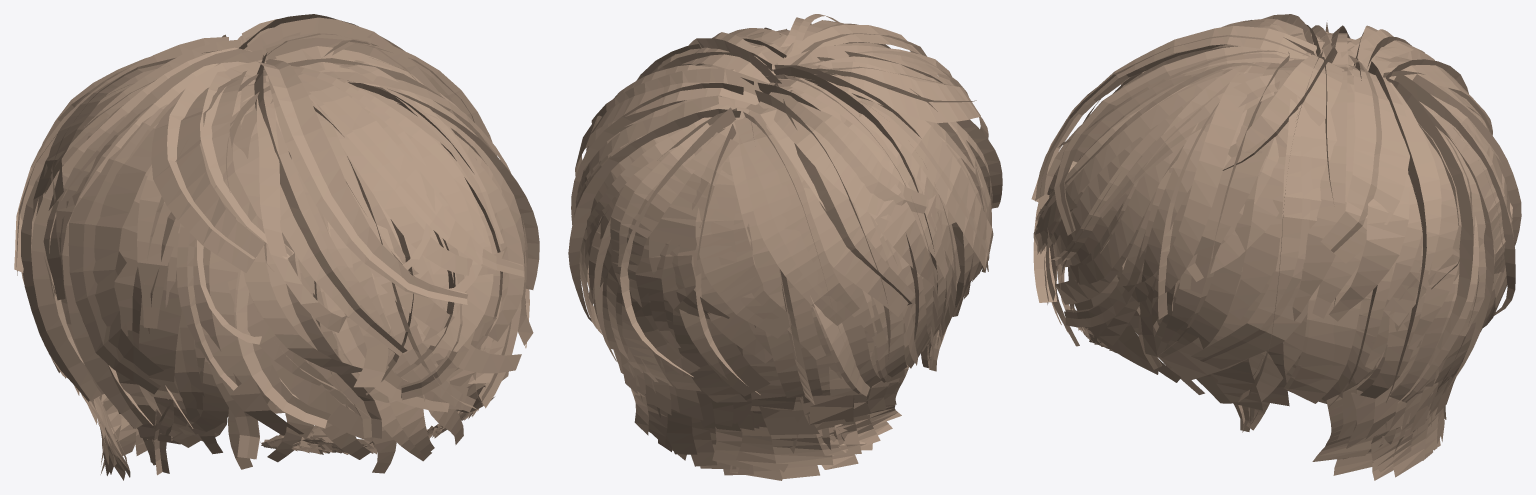
Rendered from male_hair_13_lod0.glb.
The picture shows the model from 3 angles, left to right: view 1: azimuth 30°, elevation 25°; view 2: azimuth 150°, elevation 25°; view 3: azimuth 270°, elevation 25°; orthographic projection. The views are drawn at different scales.
Parts seen in each view (by area): view 1: hair_13; view 2: hair_13; view 3: hair_13.
Part boxes in pixels (<box>): hair_13: <box>14,14,539,480</box>; hair_13: <box>568,14,1002,480</box>; hair_13: <box>1031,14,1521,480</box>.
Bounding box in the file's own units: 0.1948 × 0.1962 × 0.219.
